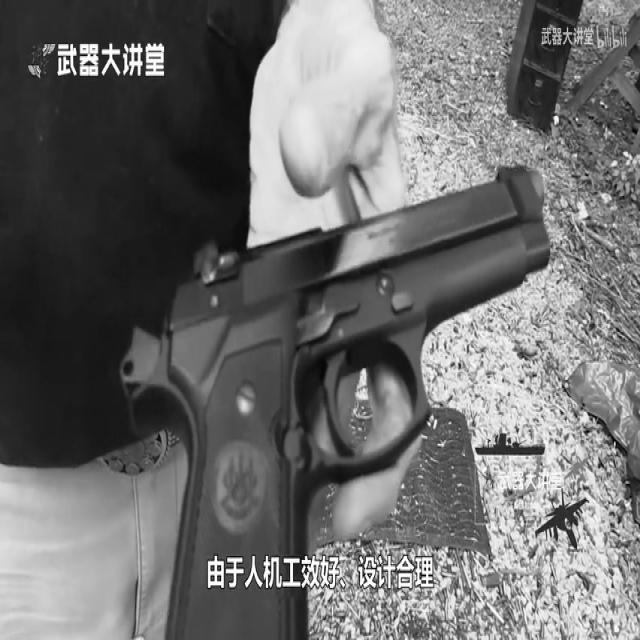Hand-Gun: (107, 120, 589, 640)
